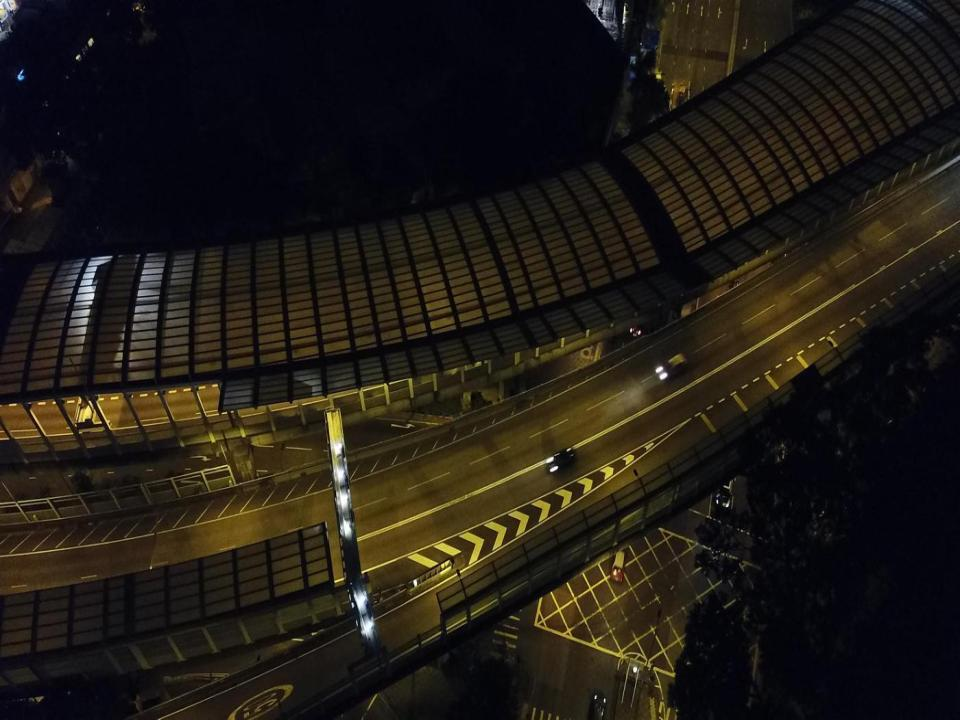car: (657, 351, 692, 379), (714, 468, 734, 510), (546, 446, 577, 473), (610, 548, 626, 583), (628, 306, 646, 337), (588, 692, 607, 719)
